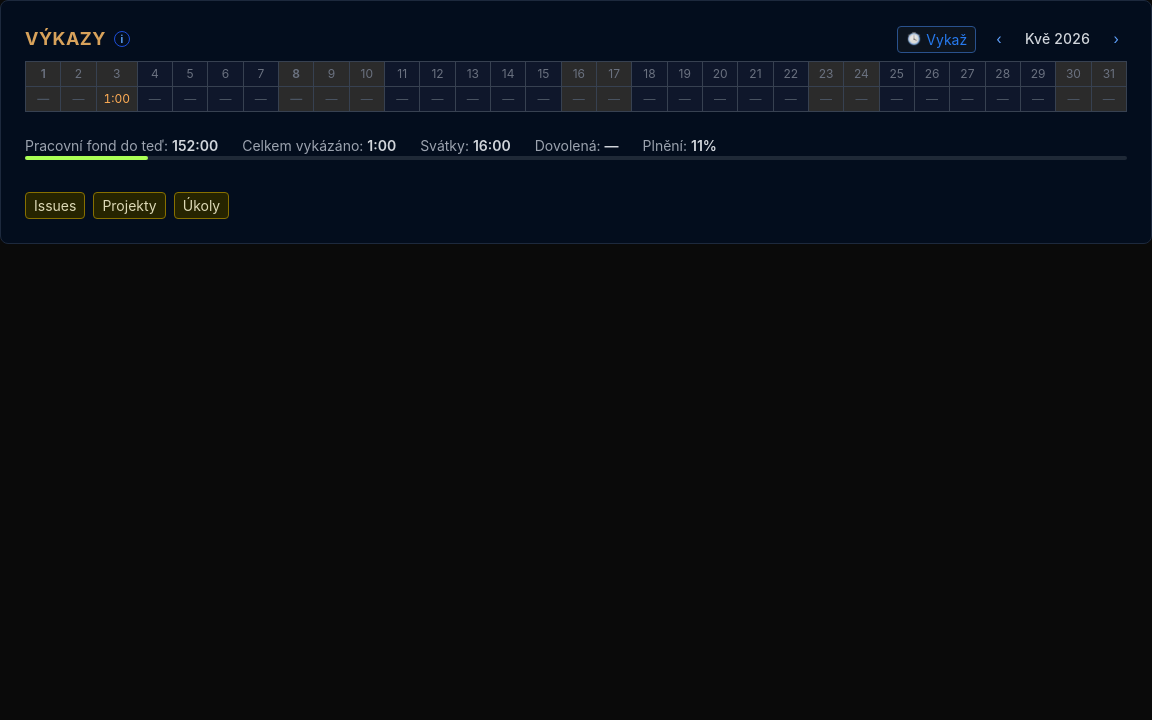
it: WorklogsSection monthly issues › zobrazí monthly issues po kliknutí na ukázat issues
Click the button with aria-label "Issues v tomto měsíci" at (55, 206), box x1=25 y1=192 x2=85 y2=219
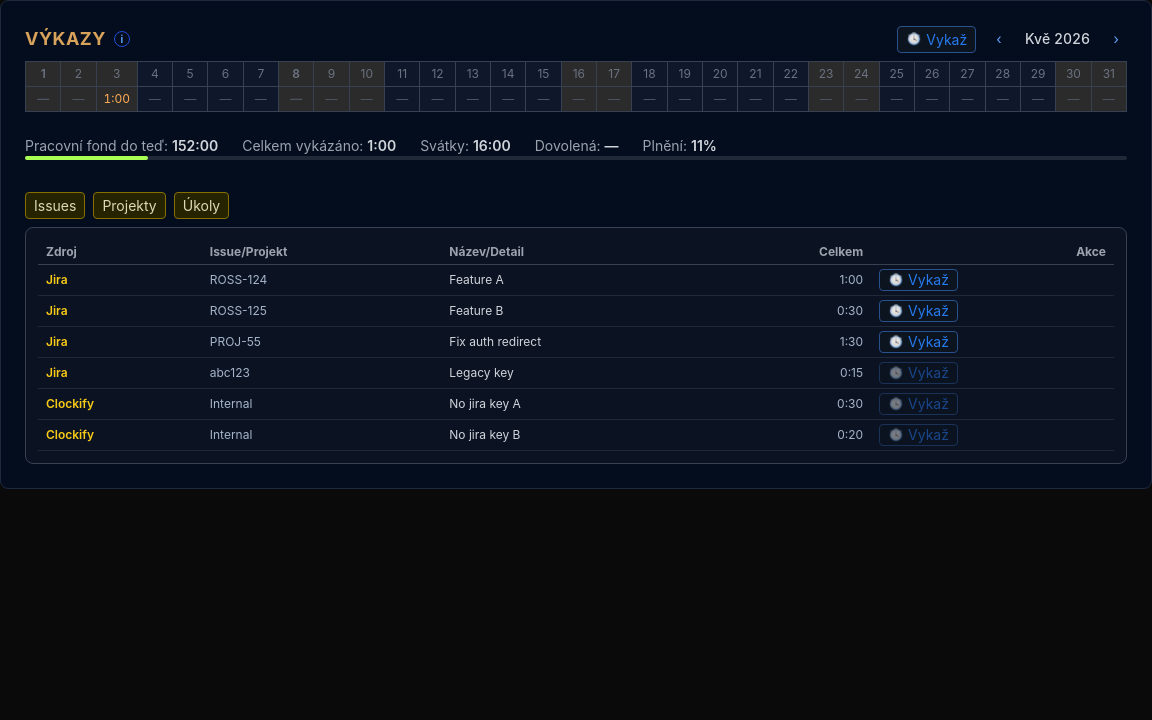
Expected: the column heading "Issue/Projekt" is shown, x1=202 y1=240 x2=441 y2=264
Expected: the text "PROJ-55" is shown, x1=202 y1=326 x2=441 y2=358
Expected: the text "Internal" next to "No jira key A" is shown, x1=210 y1=396 x2=252 y2=411
